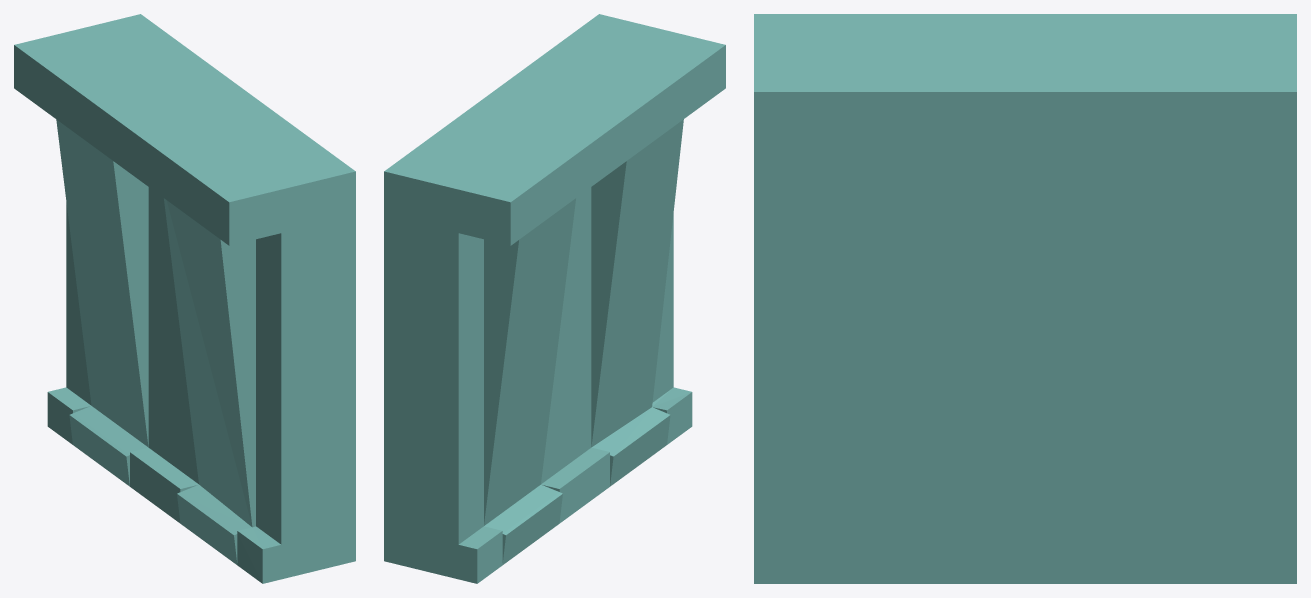
Rendered from EspacioInicialParedExteriorNI.gltf.
The picture shows the model from 3 angles, left to right: view 1: azimuth 30°, elevation 25°; view 2: azimuth 150°, elevation 25°; view 3: azimuth 270°, elevation 25°; orthographic projection. The views are drawn at different scales.
Parts seen in each view (by area): view 1: Pared.73; view 2: Pared.73; view 3: Pared.73.
Boxes of the visible parts, <box> form: Pared.73: <box>14,14,355,583</box>; Pared.73: <box>384,14,725,583</box>; Pared.73: <box>754,14,1296,583</box>.
Size of the model in its own units: 0.68 by 2 by 2.
